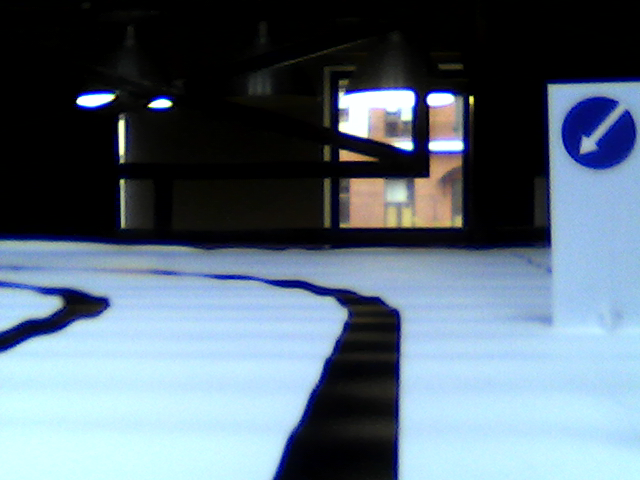prep: (561, 94, 639, 170)
